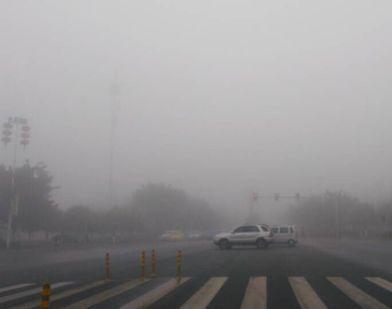car: (211, 222, 272, 251), (255, 223, 298, 247)
